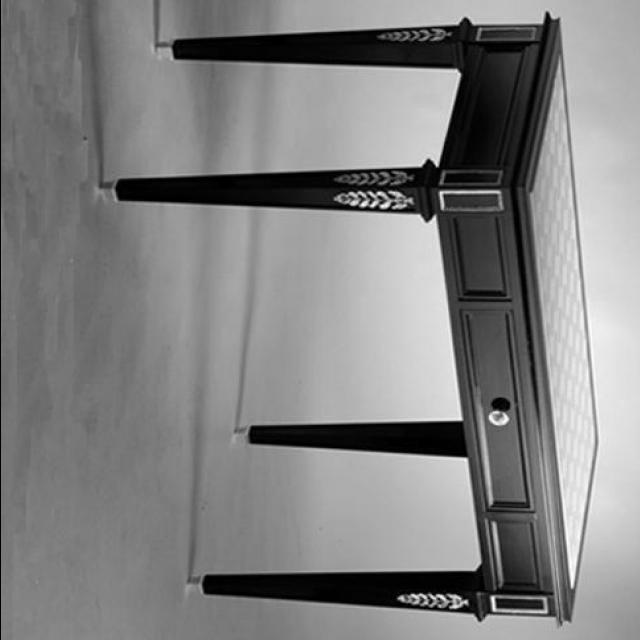table: (92, 11, 602, 629)
